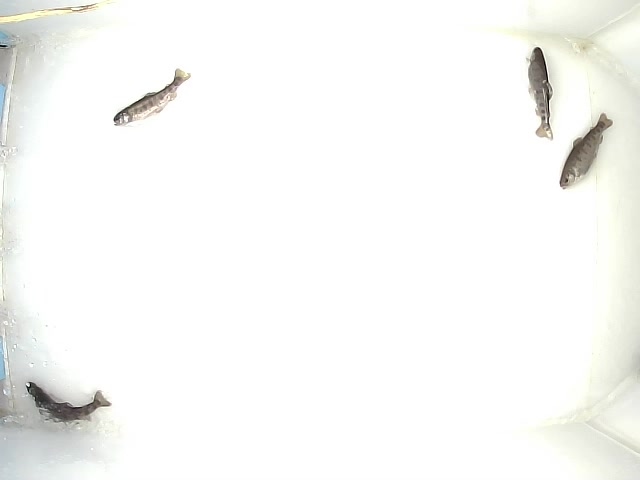fish: (113, 68, 192, 127), (558, 111, 614, 191), (25, 381, 114, 424), (524, 45, 555, 142)
